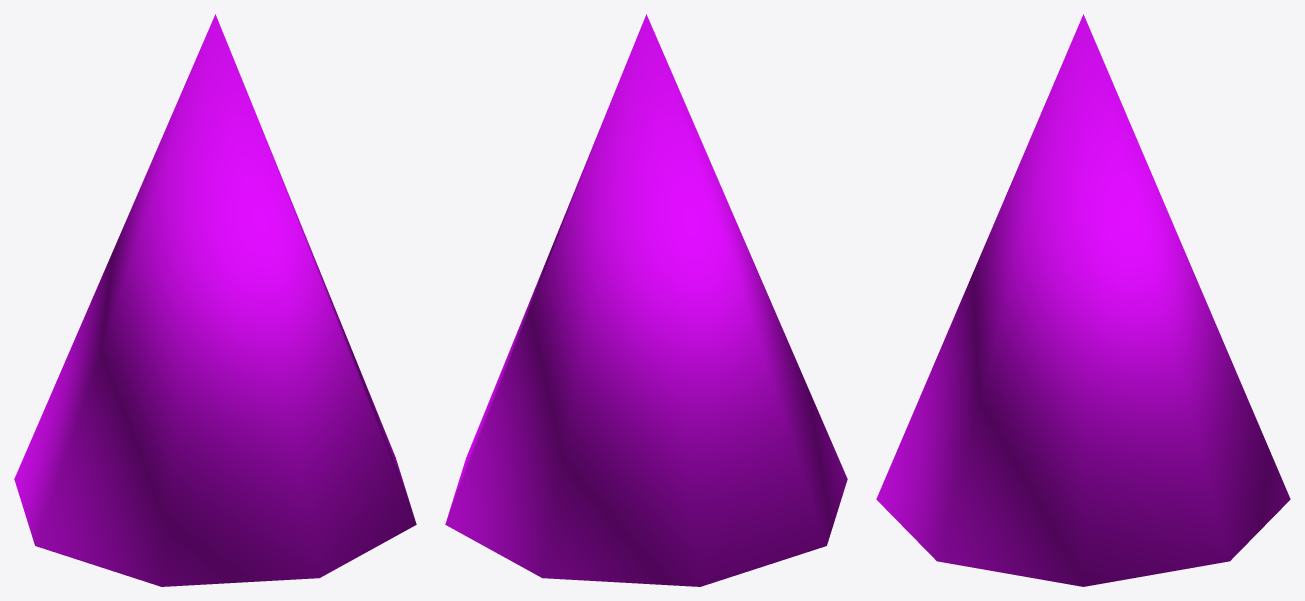
File: CommonPeople_FreeSample_anniversy_hat_1_onGround_meshCollider.fbx
3 renders of one model, left to right at view 1: azimuth 30°, elevation 25°; view 2: azimuth 150°, elevation 25°; view 3: azimuth 270°, elevation 25°, orthographic.
Visible parts, largest first — view 1: CommonPeople_FreeSample_anniversy_hat_1_onGround_meshCollide; view 2: CommonPeople_FreeSample_anniversy_hat_1_onGround_meshCollide; view 3: CommonPeople_FreeSample_anniversy_hat_1_onGround_meshCollide.
Part boxes in pixels (x1=…): CommonPeople_FreeSample_anniversy_hat_1_onGround_meshCollide: x1=14, y1=14, x2=416, y2=586; CommonPeople_FreeSample_anniversy_hat_1_onGround_meshCollide: x1=445, y1=14, x2=847, y2=586; CommonPeople_FreeSample_anniversy_hat_1_onGround_meshCollide: x1=876, y1=14, x2=1290, y2=586.
Size of the model in its own units: 22.4 by 28.95 by 22.4.
